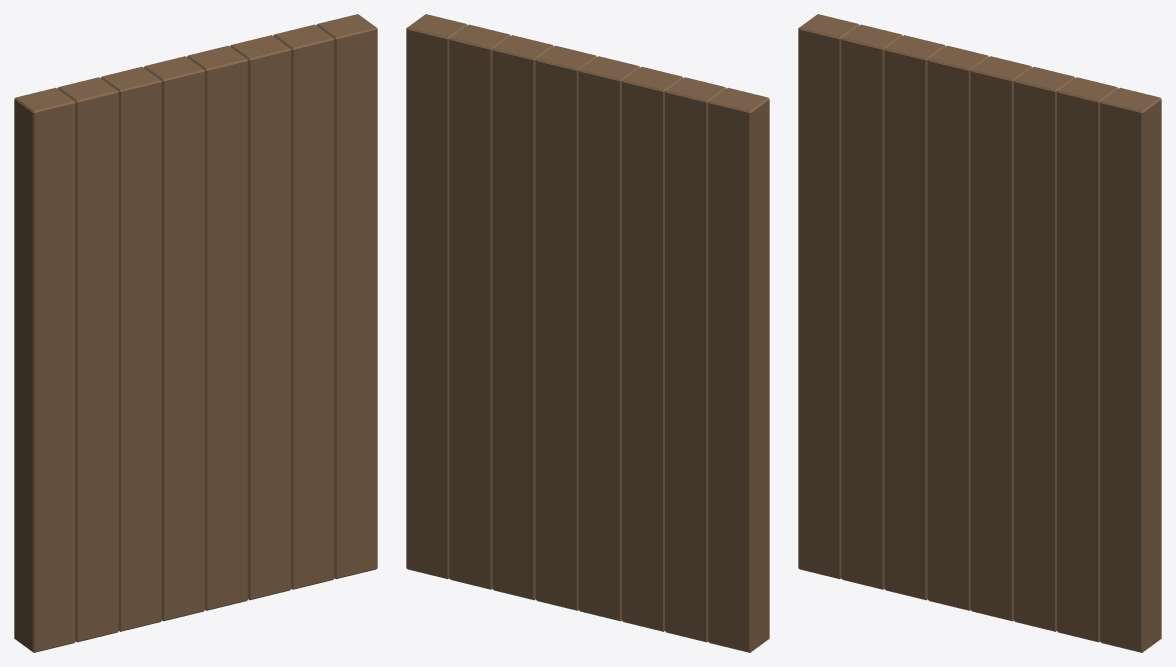
Rendered from SM_Wall.fbx.
The picture shows the model from 3 angles, left to right: view 1: azimuth 30°, elevation 25°; view 2: azimuth 150°, elevation 25°; view 3: azimuth 330°, elevation 25°; orthographic projection.
Parts seen in each view (by area): view 1: SM_Wall; view 2: SM_Wall; view 3: SM_Wall.
Boxes of the visible parts, x1=… form: SM_Wall: x1=14, y1=14, x2=377, y2=652; SM_Wall: x1=406, y1=14, x2=769, y2=652; SM_Wall: x1=798, y1=14, x2=1161, y2=652.
Size of the model in its own units: 2 by 3 by 0.2.
